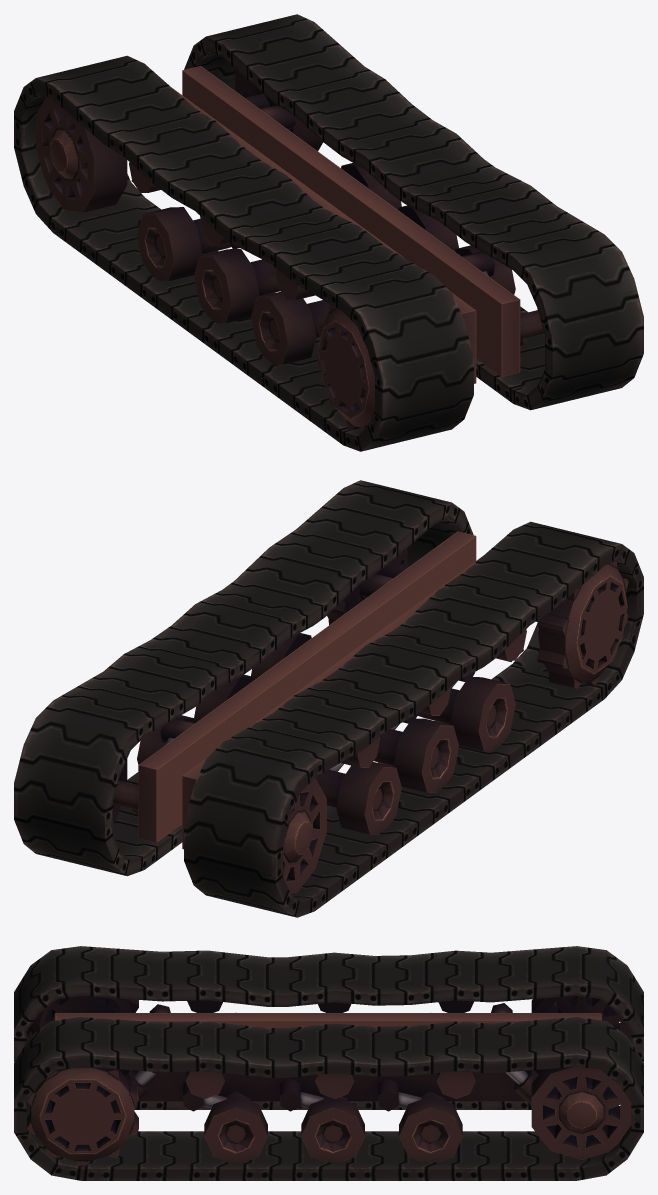
File: Tank_track_v4.FBX
3 views of the same model, one above another, from view 1: azimuth 30°, elevation 25°; view 2: azimuth 150°, elevation 25°; view 3: azimuth 270°, elevation 25° (orthographic). The views are drawn at different scales.
Parts seen in each view (by area): view 1: Tank_track_v1_caterpillar_R, Tank_track_v1_caterpillar_L, Tank_track_v4_L, Tank_track_v4_R, Tank_track_v4_S2_R, Tank_track_v4_S1_R, Tank_track_v4_S2_L; view 2: Tank_track_v1_caterpillar_R, Tank_track_v1_caterpillar_L, Tank_track_v4_L, Tank_track_v4_R, Tank_track_v4_S1_R, Tank_track_v4_S2_R, Tank_track_v4_S1_L; view 3: Tank_track_v1_caterpillar_L, Tank_track_v1_caterpillar_R, Tank_track_v4_L, Tank_track_v4_S1_L, Tank_track_v4_S2_L, Tank_track_v4_R, Tank_track_v4_S1_R, Tank_track_v4_S2_R.
Boxes of the visible parts, x1,y1,x2,y2 form: Tank_track_v1_caterpillar_R: (14,55,473,451); Tank_track_v1_caterpillar_L: (184,14,643,410); Tank_track_v4_L: (182,66,544,376); Tank_track_v4_R: (129,88,476,383); Tank_track_v4_S2_R: (36,96,127,212); Tank_track_v4_S1_R: (317,304,374,429); Tank_track_v4_S2_L: (235,69,323,150); Tank_track_v1_caterpillar_R: (184,521,643,917); Tank_track_v1_caterpillar_L: (14,480,473,876); Tank_track_v4_L: (113,531,476,842); Tank_track_v4_R: (182,556,537,849); Tank_track_v4_S1_R: (537,561,628,688); Tank_track_v4_S2_R: (283,778,326,893); Tank_track_v4_S1_L: (327,548,408,625); Tank_track_v1_caterpillar_L: (14,1017,643,1180); Tank_track_v1_caterpillar_R: (14,946,643,1109); Tank_track_v4_L: (119,1069,555,1162); Tank_track_v4_S1_L: (27,1066,138,1165); Tank_track_v4_S2_L: (531,1066,631,1159); Tank_track_v4_R: (55,1000,601,1027); Tank_track_v4_S1_R: (27,996,138,1038); Tank_track_v4_S2_R: (531,996,631,1041).
Size of the model in its own units: 2.4 by 1.29 by 5.85.
